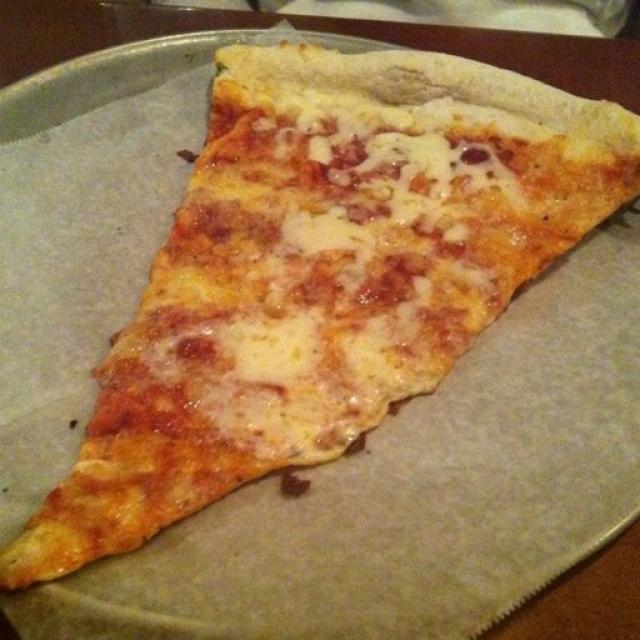Cheese: (212, 320, 342, 408), (355, 120, 457, 188), (285, 200, 374, 258)
Pizza: (0, 45, 640, 592)
